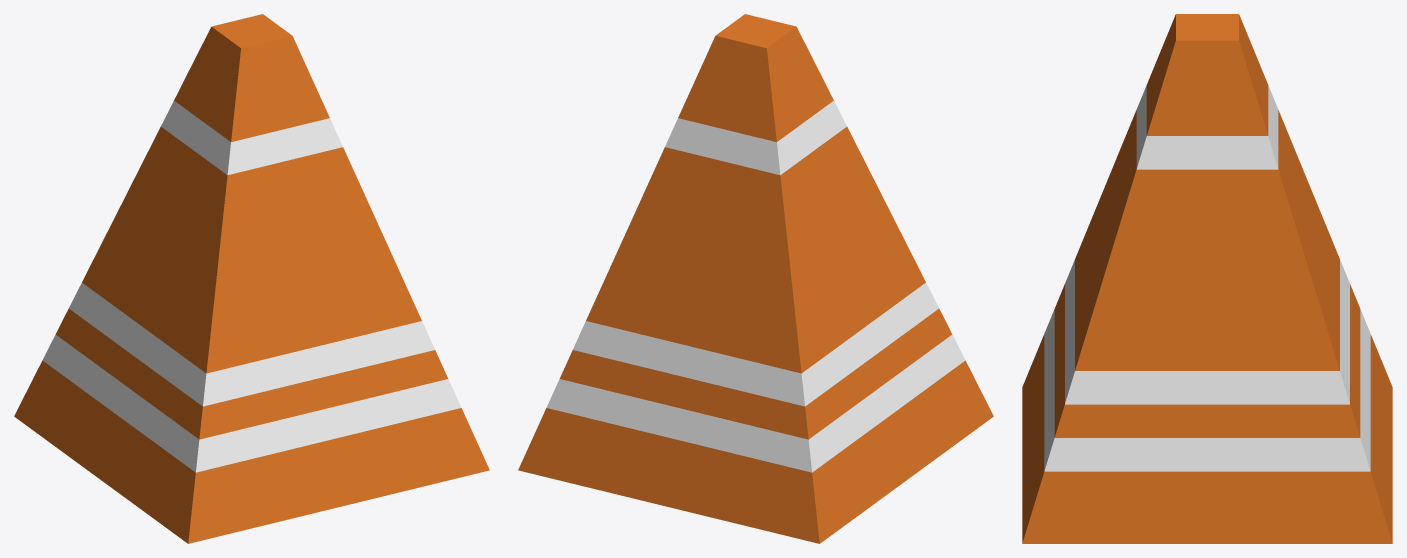
3 views of the same model, side by side, from view 1: azimuth 30°, elevation 25°; view 2: azimuth 150°, elevation 25°; view 3: azimuth 270°, elevation 25° (orthographic). The views are drawn at different scales.
Visible parts, largest first — view 1: Cone; view 2: Cone; view 3: Cone.
Boxes of the visible parts, x1,y1,x2,y2 form: Cone: (14, 14, 489, 543); Cone: (518, 14, 993, 543); Cone: (1022, 14, 1392, 543).
Bounding box in the file's own units: 153 × 200 × 153.
